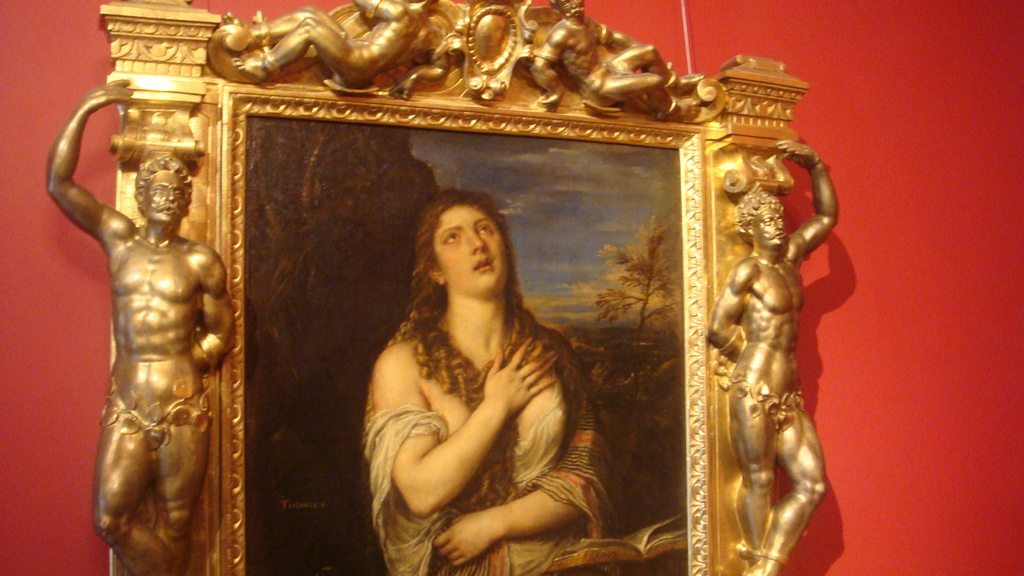Person: (42, 79, 235, 576), (708, 138, 838, 576)
